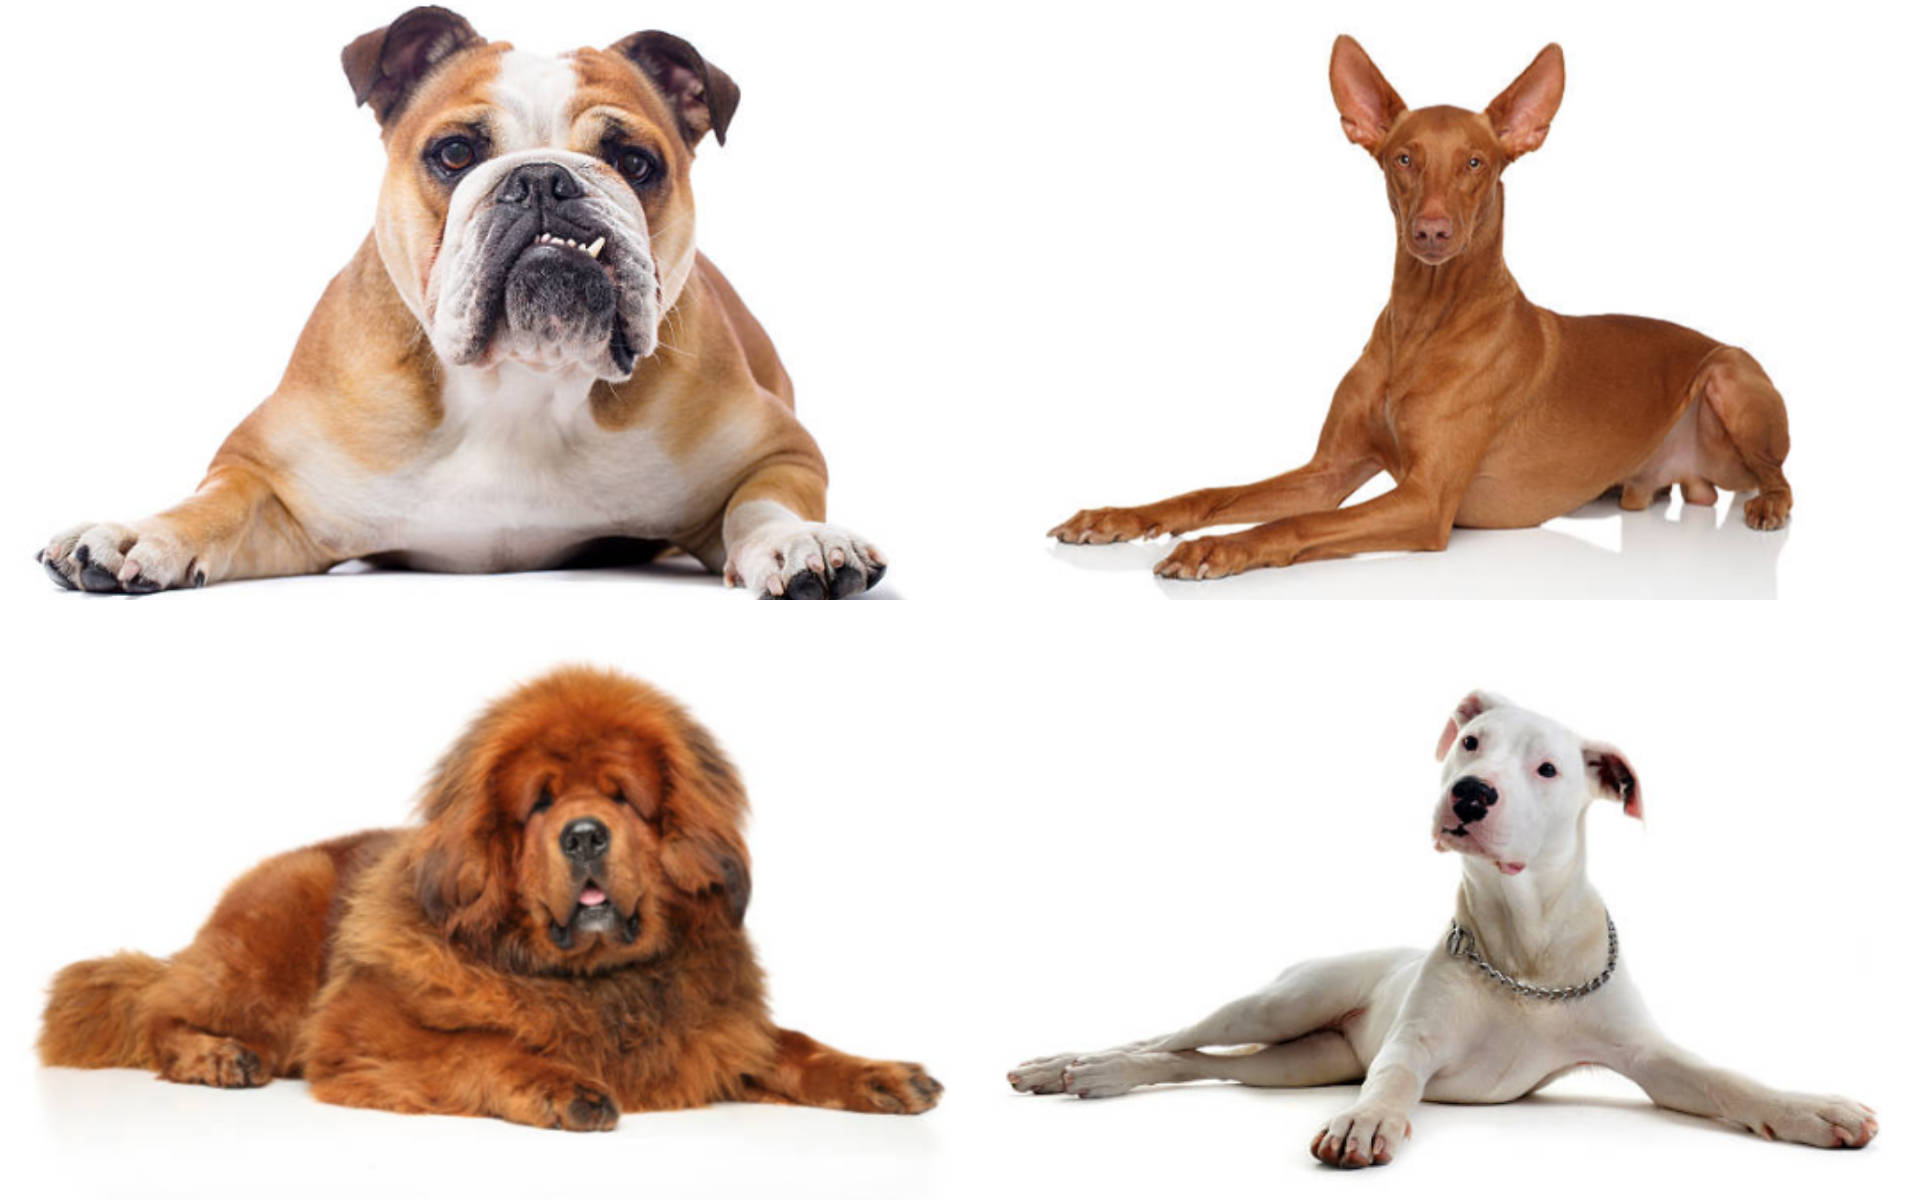dog: (18, 1, 901, 619), (10, 648, 958, 1150), (1037, 29, 1843, 606), (1017, 668, 1892, 1172)
